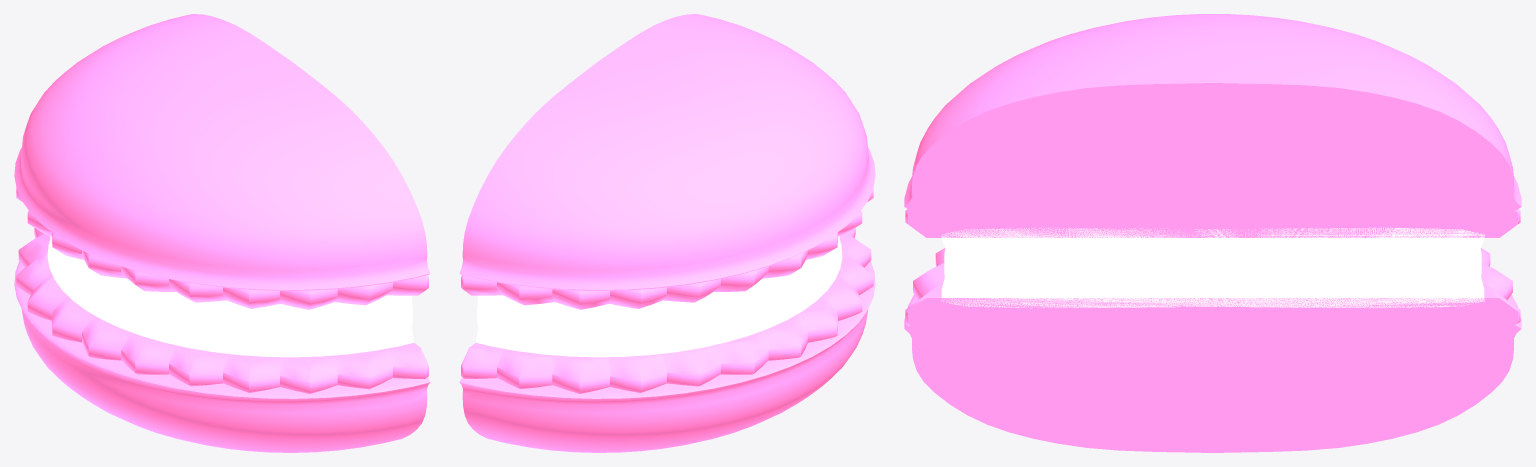
3 views of the same model, side by side, from view 1: azimuth 30°, elevation 25°; view 2: azimuth 150°, elevation 25°; view 3: azimuth 270°, elevation 25° (orthographic). The views are drawn at different scales.
Parts seen in each view (by area): view 1: Macaroon-left; view 2: Macaroon-left; view 3: Macaroon-left.
Part boxes in pixels (x1,y1,x2,y2): Macaroon-left: [14, 14, 430, 452]; Macaroon-left: [459, 14, 875, 452]; Macaroon-left: [904, 14, 1521, 452].
Bounding box in the file's own units: 1.03 × 1.35 × 2.03.
